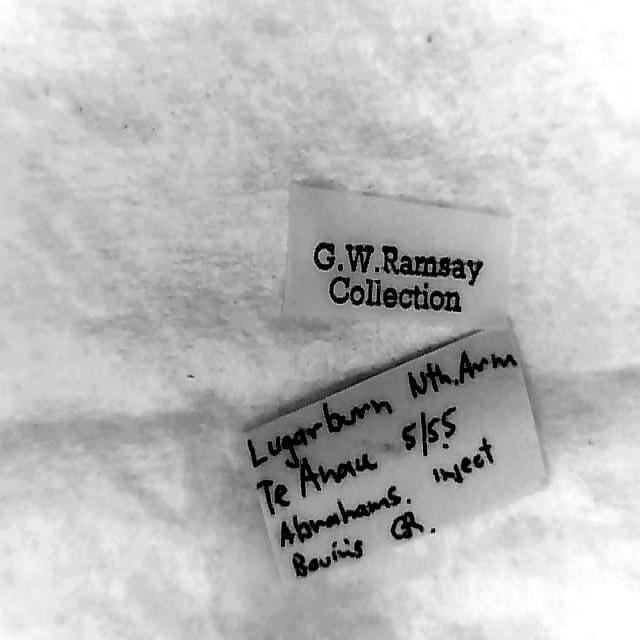hand_label: (246, 325, 544, 583)
typed_label: (284, 187, 511, 324)
